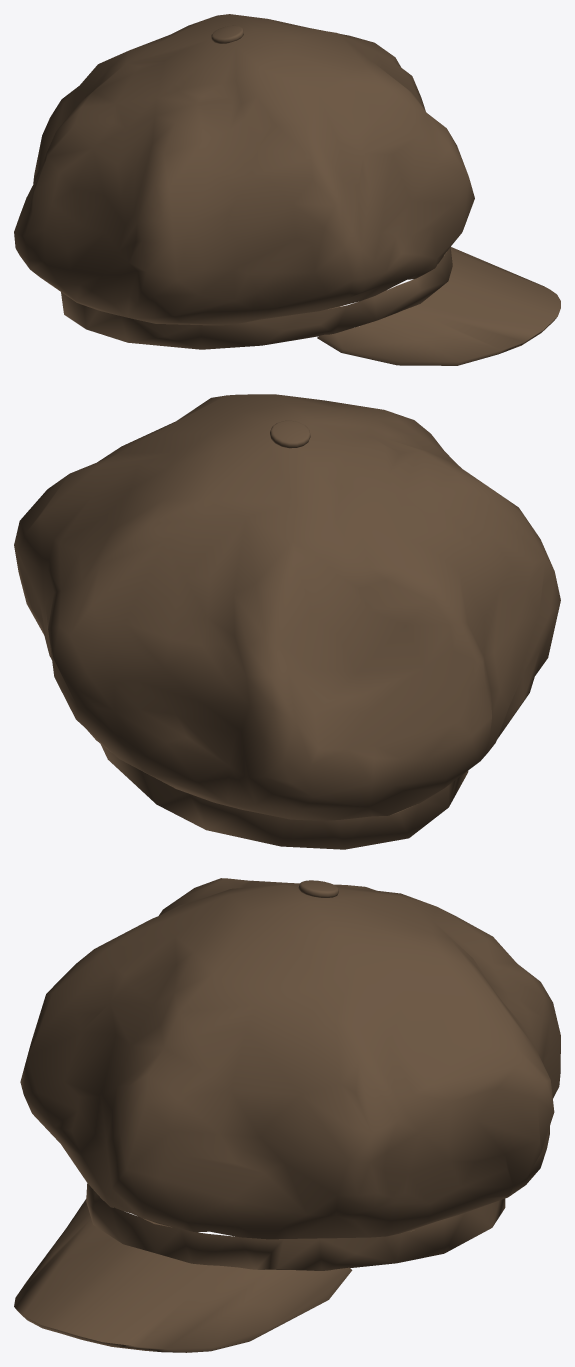
File: Hat.fbx
3 renders of one model, top to bottom at view 1: azimuth 30°, elevation 25°; view 2: azimuth 150°, elevation 25°; view 3: azimuth 270°, elevation 25°, orthographic. The views are drawn at different scales.
Visible parts, largest first — view 1: Component_1_1; view 2: Component_1_1; view 3: Component_1_1.
Boxes of the visible parts, bbox=[...] form: Component_1_1: bbox=[14, 14, 560, 365]; Component_1_1: bbox=[14, 394, 560, 849]; Component_1_1: bbox=[14, 878, 560, 1352].
Bounding box in the file's own units: 10.74 × 6.7 × 9.78.
